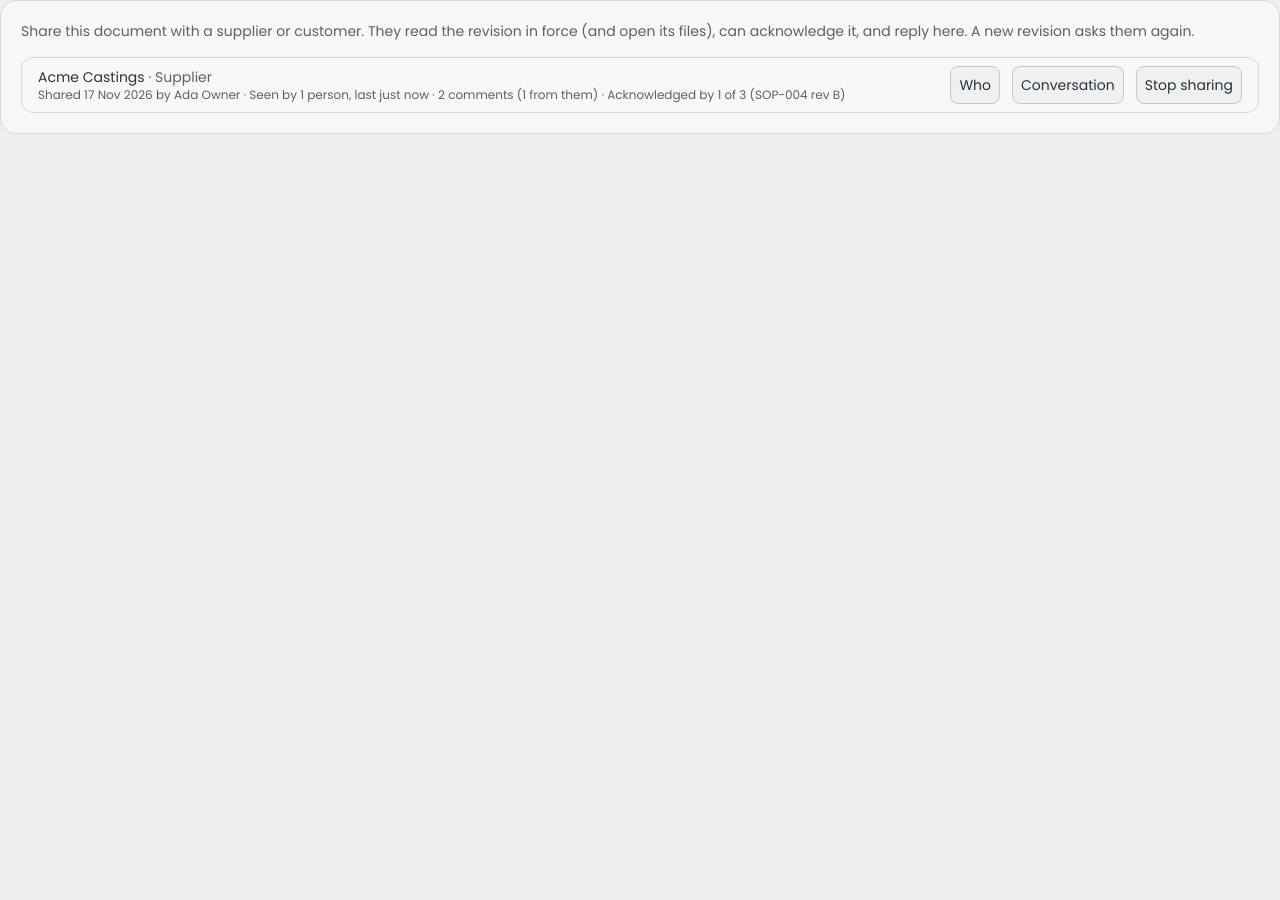
Test: the share card on a record › on a document it says how many have acknowledged and who
Expected: the list named "Shared with" shows "Acknowledged by 1 of 3 (SOP-004 rev B)", [598,86,846,103]
Click the button with aria-label "Who at Acme Castings acknowledged". click: (975, 85)
box: [950,66,1000,104]
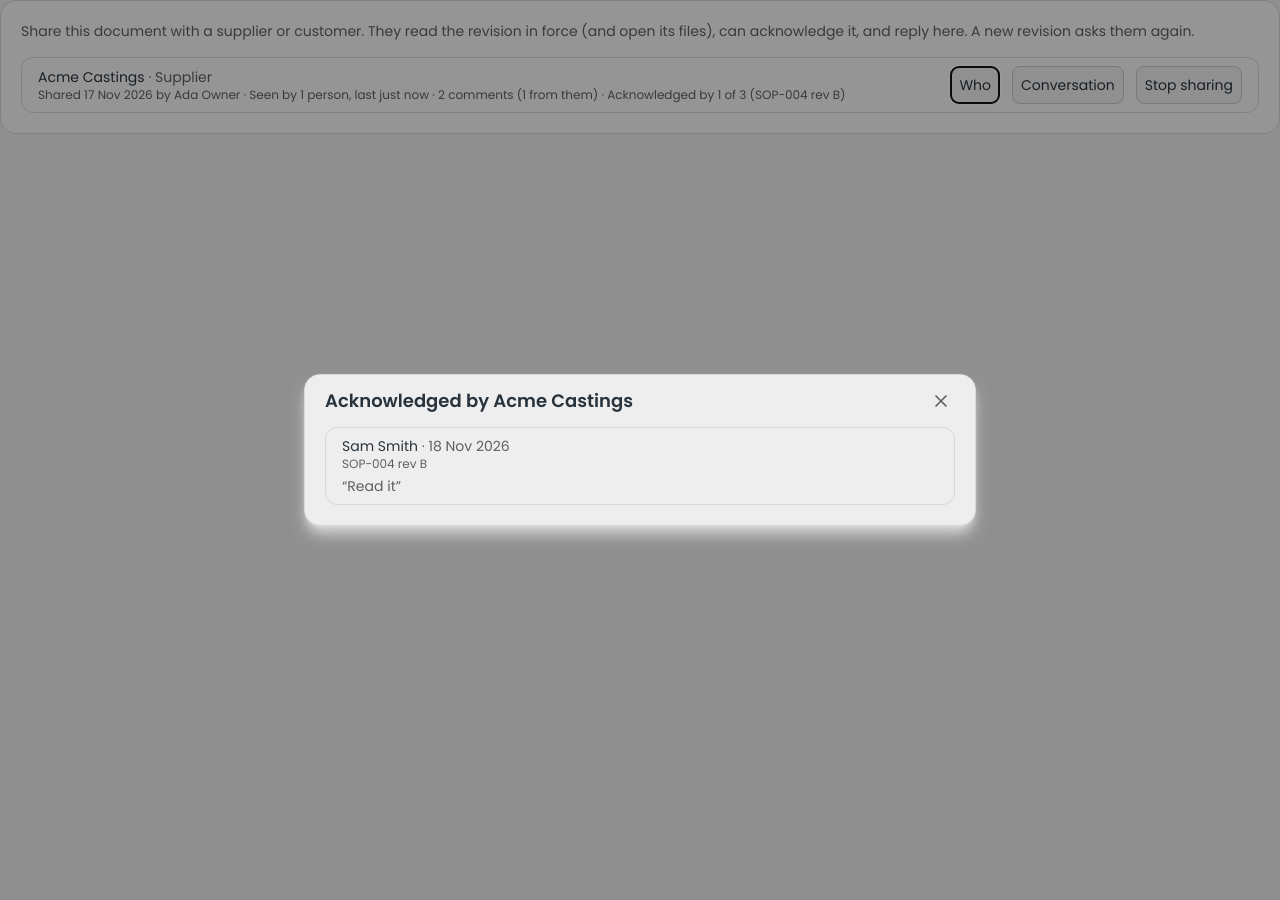
Expected: the list named "Acknowledgements" shows "Sam Smith", [342,436,418,456]
Expected: the list named "Acknowledgements" shows "Read it", [347,476,396,496]
